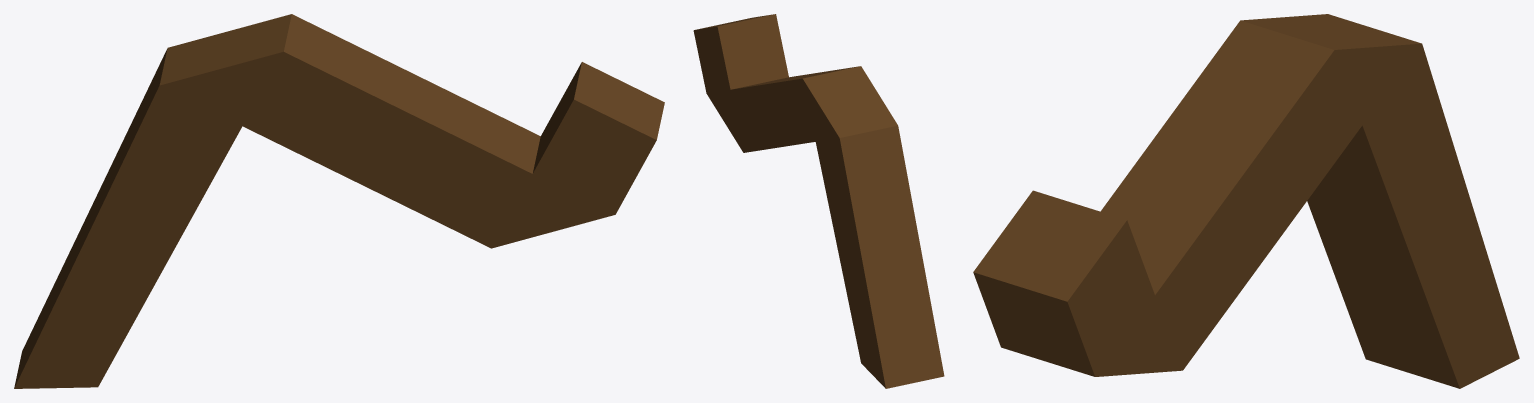
The model's file is legRB.gltf.
3 renders of one model, left to right at view 1: azimuth 30°, elevation 25°; view 2: azimuth 150°, elevation 25°; view 3: azimuth 270°, elevation 25°, orthographic. The views are drawn at different scales.
Visible parts, largest first — view 1: legRB; view 2: legRB; view 3: legRB.
Part boxes in pixels (left/top/right/bottom): legRB: left=14, top=14, right=664, bottom=388; legRB: left=693, top=14, right=944, bottom=388; legRB: left=973, top=14, right=1519, bottom=388.
Size of the model in its own units: 1.26 by 0.8208 by 0.9503.
